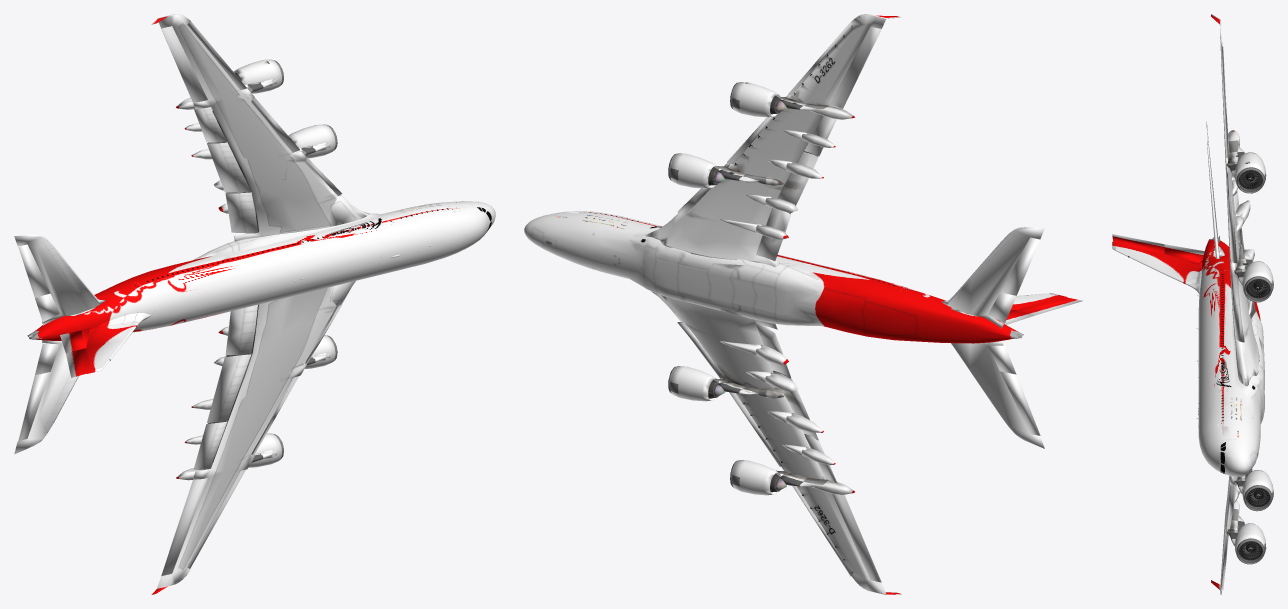
File: 11803_Airplane_v1_l1.obj
3 renders of one model, left to right at view 1: azimuth 30°, elevation 25°; view 2: azimuth 150°, elevation 25°; view 3: azimuth 270°, elevation 25°, orthographic.
Visible parts, largest first — view 1: 11803_Airplane_v1_l1; view 2: 11803_Airplane_v1_l1; view 3: 11803_Airplane_v1_l1.
Part boxes in pixels (x1,y1,x2,y2): 11803_Airplane_v1_l1: [14, 14, 495, 594]; 11803_Airplane_v1_l1: [524, 14, 1082, 594]; 11803_Airplane_v1_l1: [1112, 14, 1273, 594].
Bounding box in the file's own units: 2845 × 3120 × 808.
6 materials, 6 textured.
